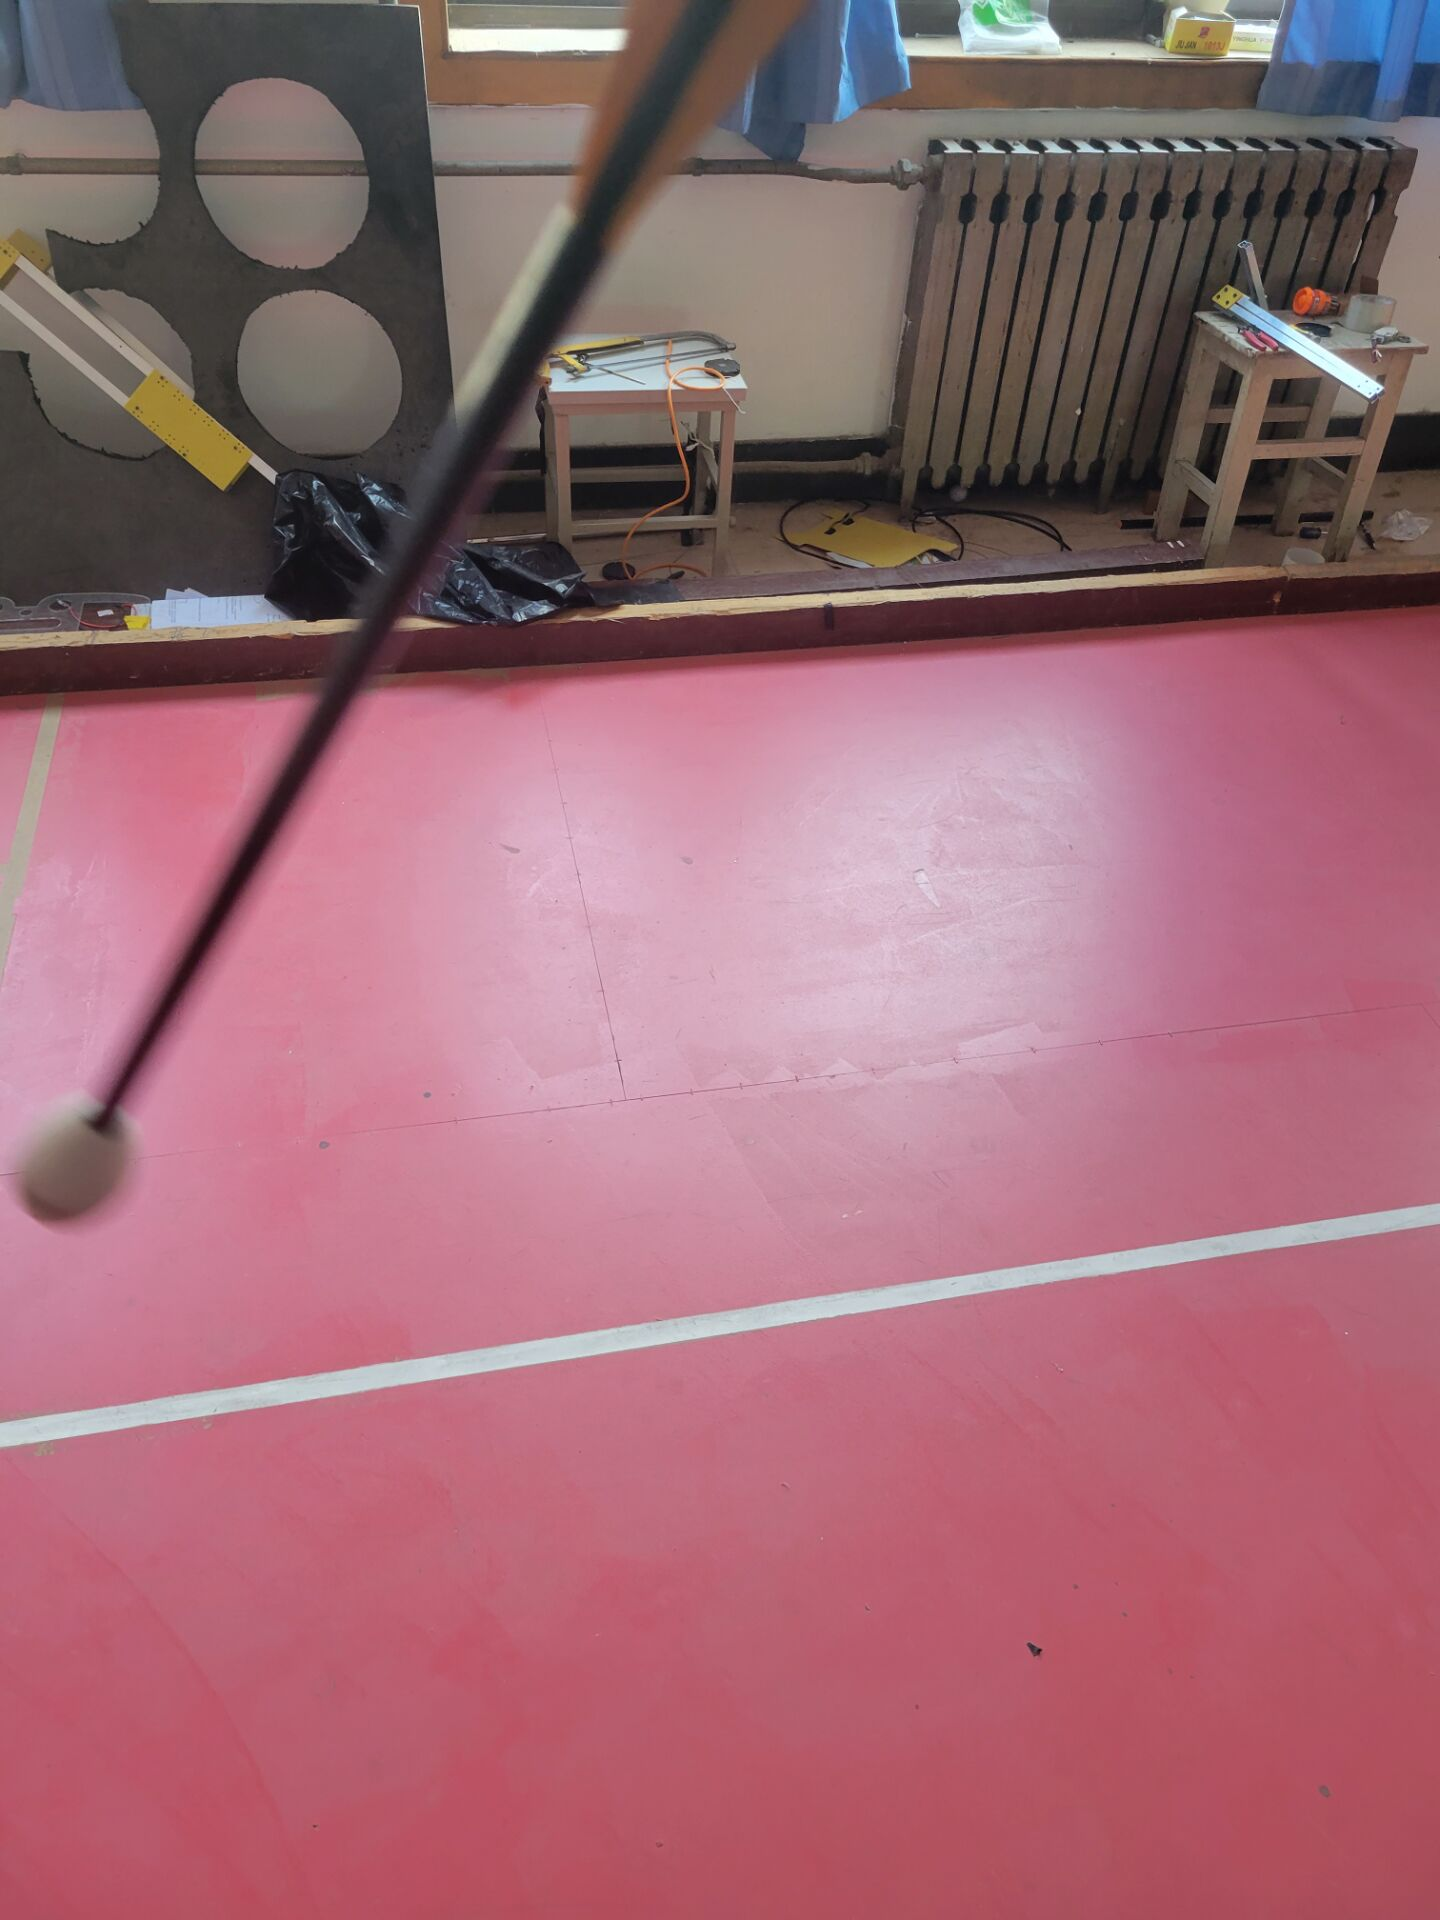arrow: (17, 5, 811, 1223)
arrowFront: (21, 1096, 138, 1223)
